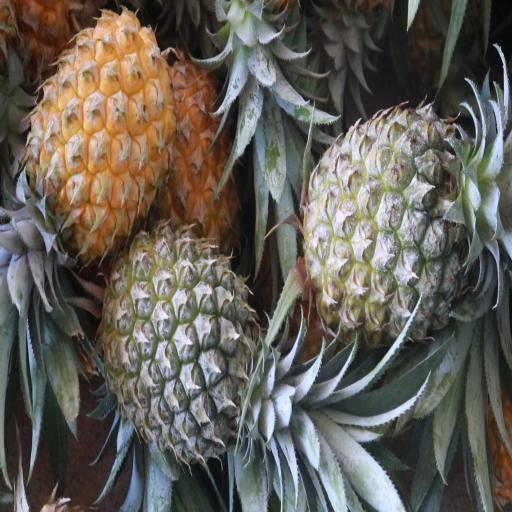Pineapple - v8 v1: (30, 10, 177, 255), (164, 66, 244, 256)
